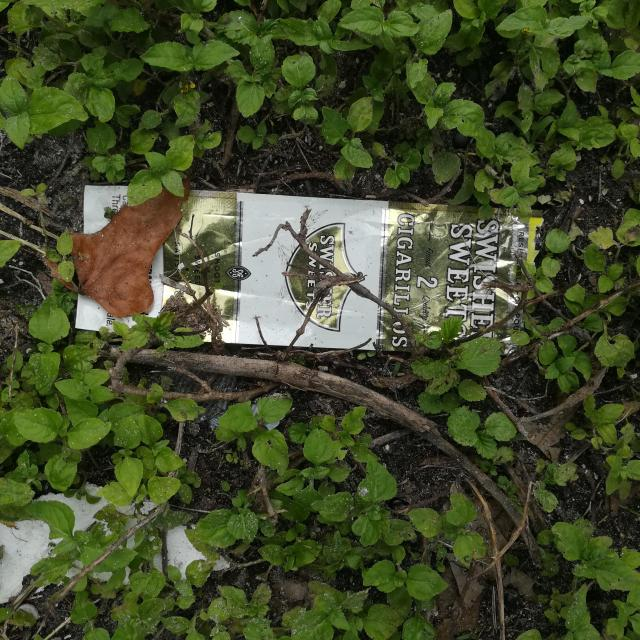litter: (75, 185, 543, 352), (2, 480, 232, 600)
